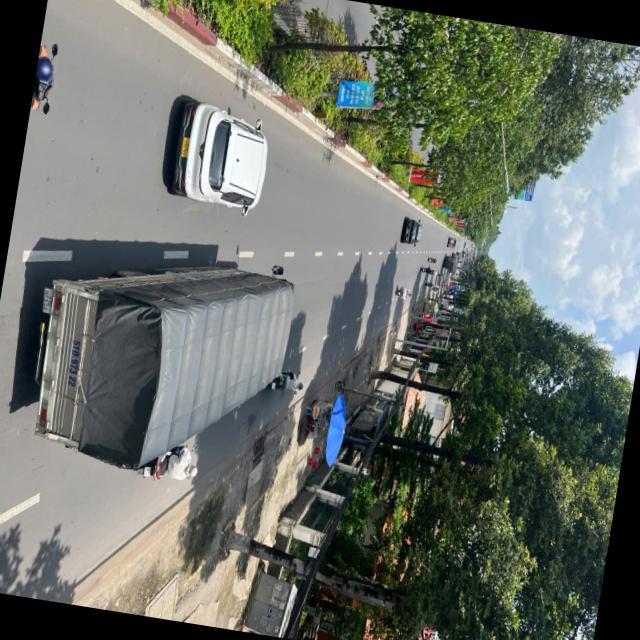Dump Truck: (35, 267, 293, 470), (441, 255, 455, 271)
Truck: (452, 261, 461, 268)
car: (162, 97, 280, 228), (397, 220, 422, 249), (446, 238, 455, 248), (451, 252, 456, 262), (462, 242, 468, 250), (460, 250, 465, 258), (456, 252, 460, 261)
motobyte: (132, 454, 192, 488), (266, 366, 306, 398), (394, 284, 412, 298), (419, 267, 430, 273), (426, 270, 436, 276), (430, 286, 440, 292), (426, 258, 436, 262), (423, 282, 432, 286), (437, 274, 444, 278)
